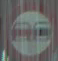No overtake: (3, 1, 54, 55)
